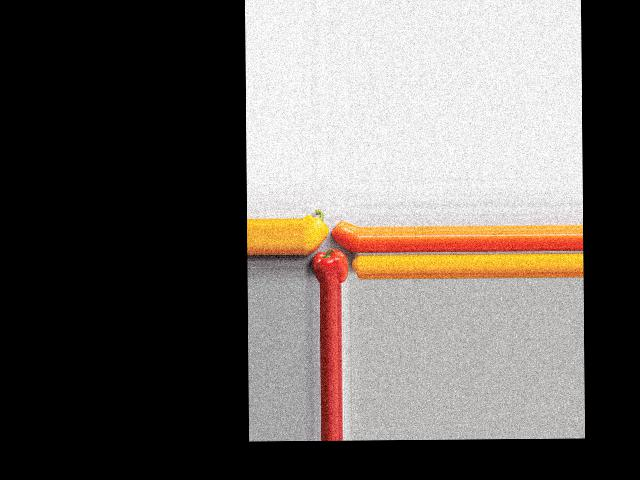bell_pepper: (310, 248, 348, 283)
